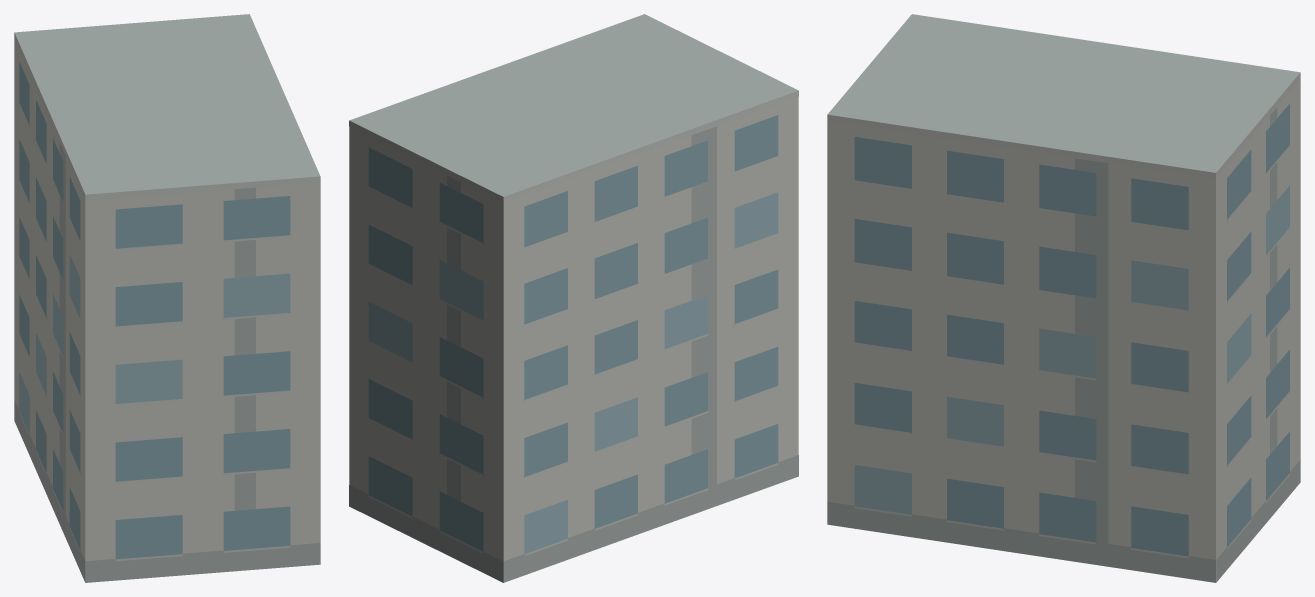
Rendered from residential-a0d4d04d-280f-4b02-86b0-7c9d8ea01ff5.glb.
3 renders of one model, left to right at view 1: azimuth 30°, elevation 25°; view 2: azimuth 150°, elevation 25°; view 3: azimuth 270°, elevation 25°, orthographic. The views are drawn at different scales.
Visible parts, largest first — view 1: residential-a0d4d04d-280f-4b02-86b0-7c9d8ea01ff5.tmp; view 2: residential-a0d4d04d-280f-4b02-86b0-7c9d8ea01ff5.tmp; view 3: residential-a0d4d04d-280f-4b02-86b0-7c9d8ea01ff5.tmp.
Part boxes in pixels (x1,y1,x2,y2): residential-a0d4d04d-280f-4b02-86b0-7c9d8ea01ff5.tmp: [14, 14, 320, 582]; residential-a0d4d04d-280f-4b02-86b0-7c9d8ea01ff5.tmp: [349, 14, 798, 582]; residential-a0d4d04d-280f-4b02-86b0-7c9d8ea01ff5.tmp: [827, 14, 1300, 582].
Size of the model in its own units: 12.68 by 15.25 by 15.96.
